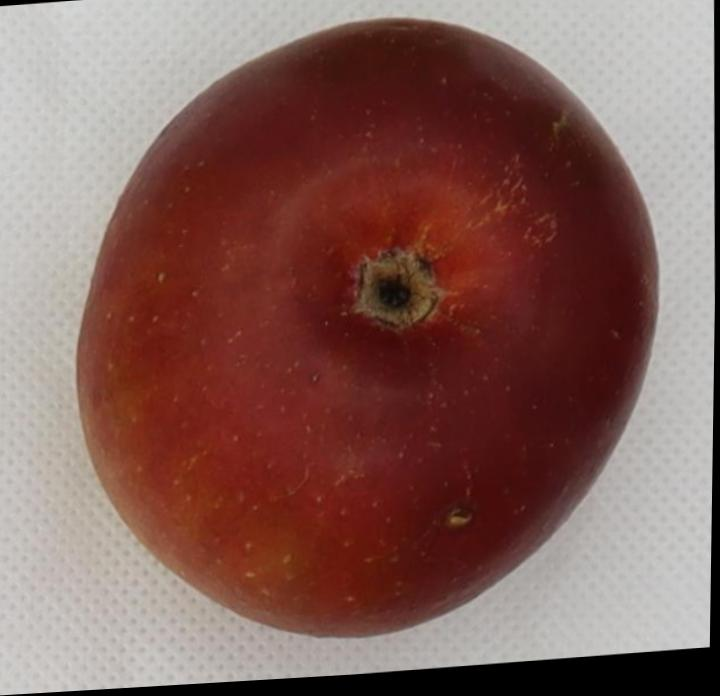apple: (78, 21, 657, 636)
surface_damage: (445, 506, 473, 529)
